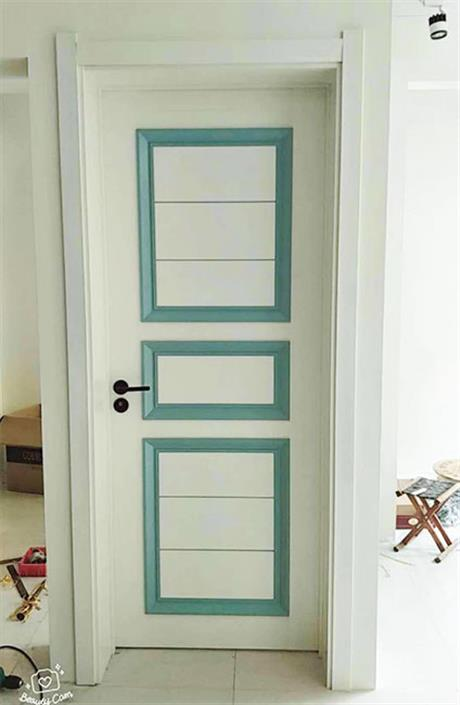door: (83, 64, 326, 658)
